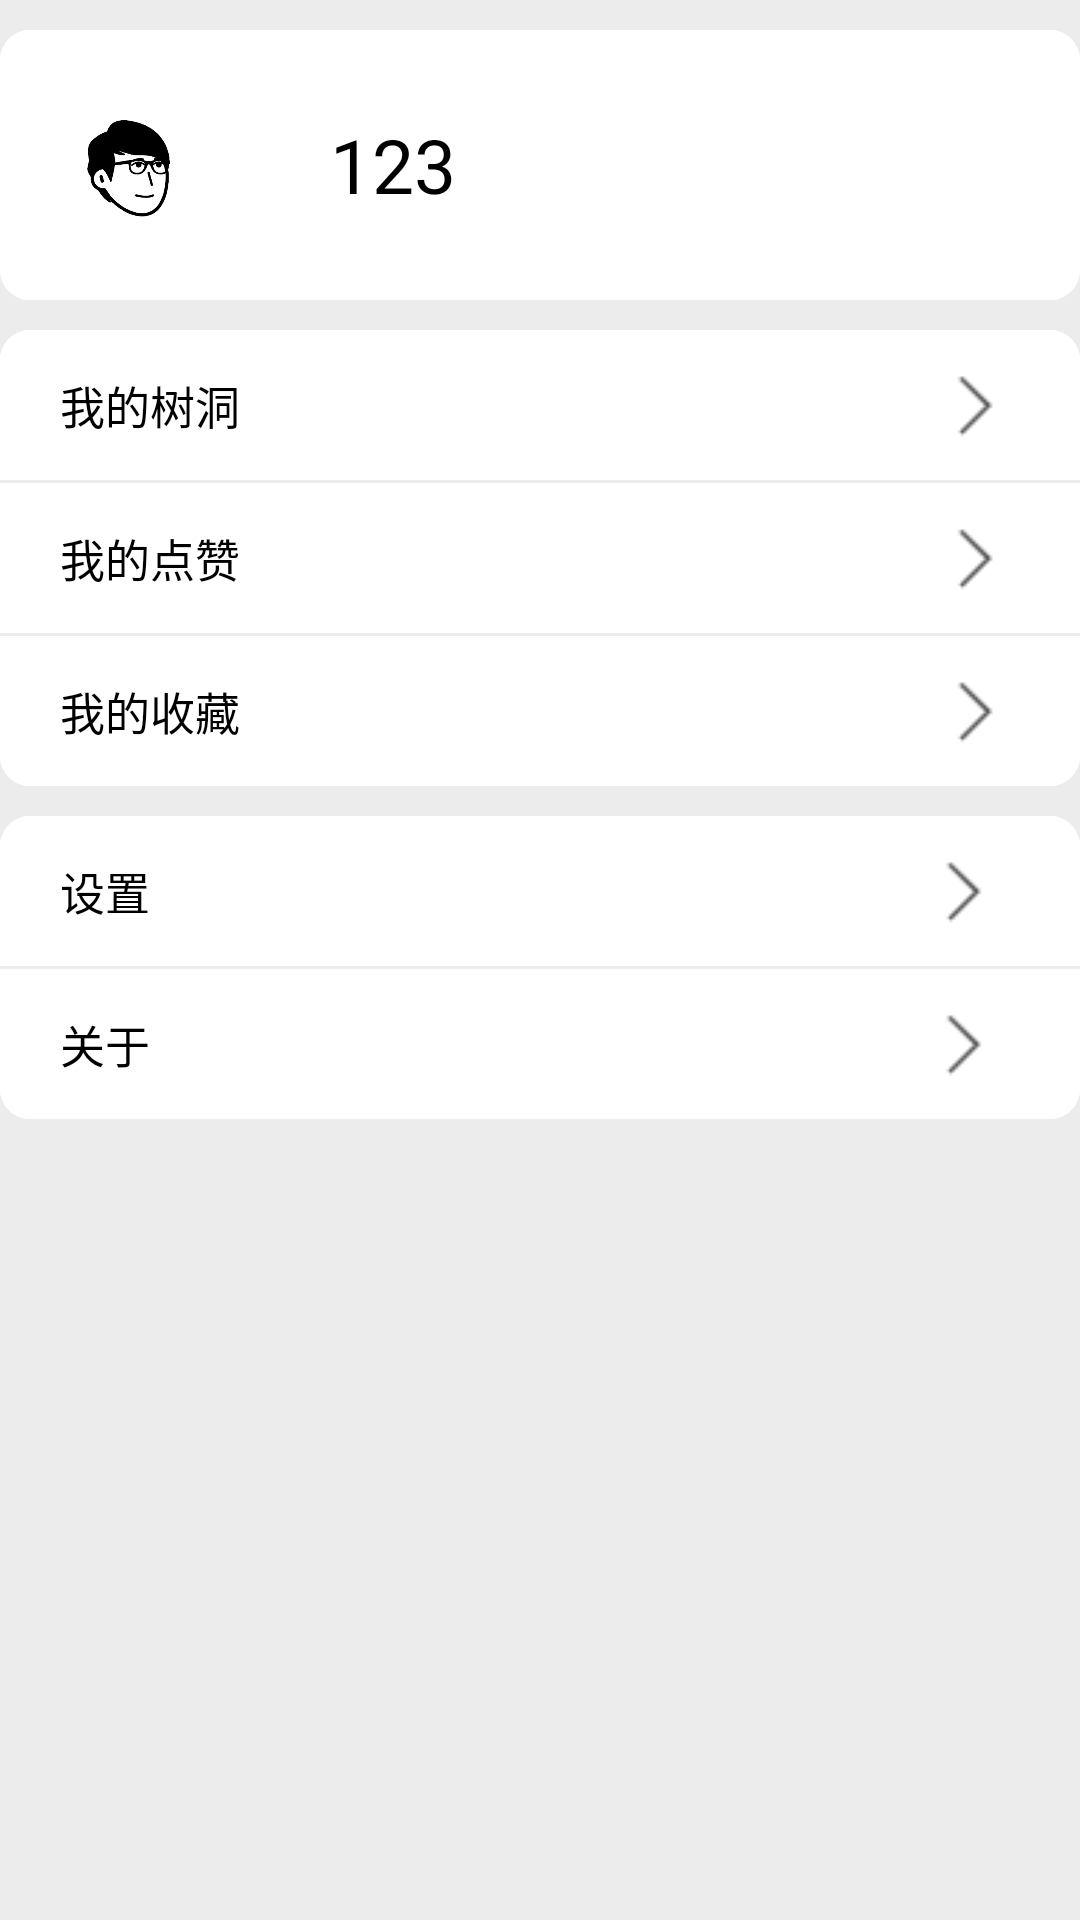

Where icons sit on this 1080px x 1920px app screen, as (x1, y1, x2, y2):
next: (958, 376, 992, 436), (958, 529, 992, 589), (958, 682, 992, 742), (947, 862, 981, 922), (947, 1015, 981, 1075)
